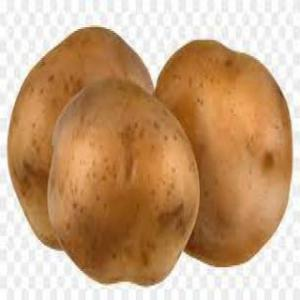potato: (6, 28, 152, 252), (49, 78, 199, 286), (157, 40, 294, 266)
